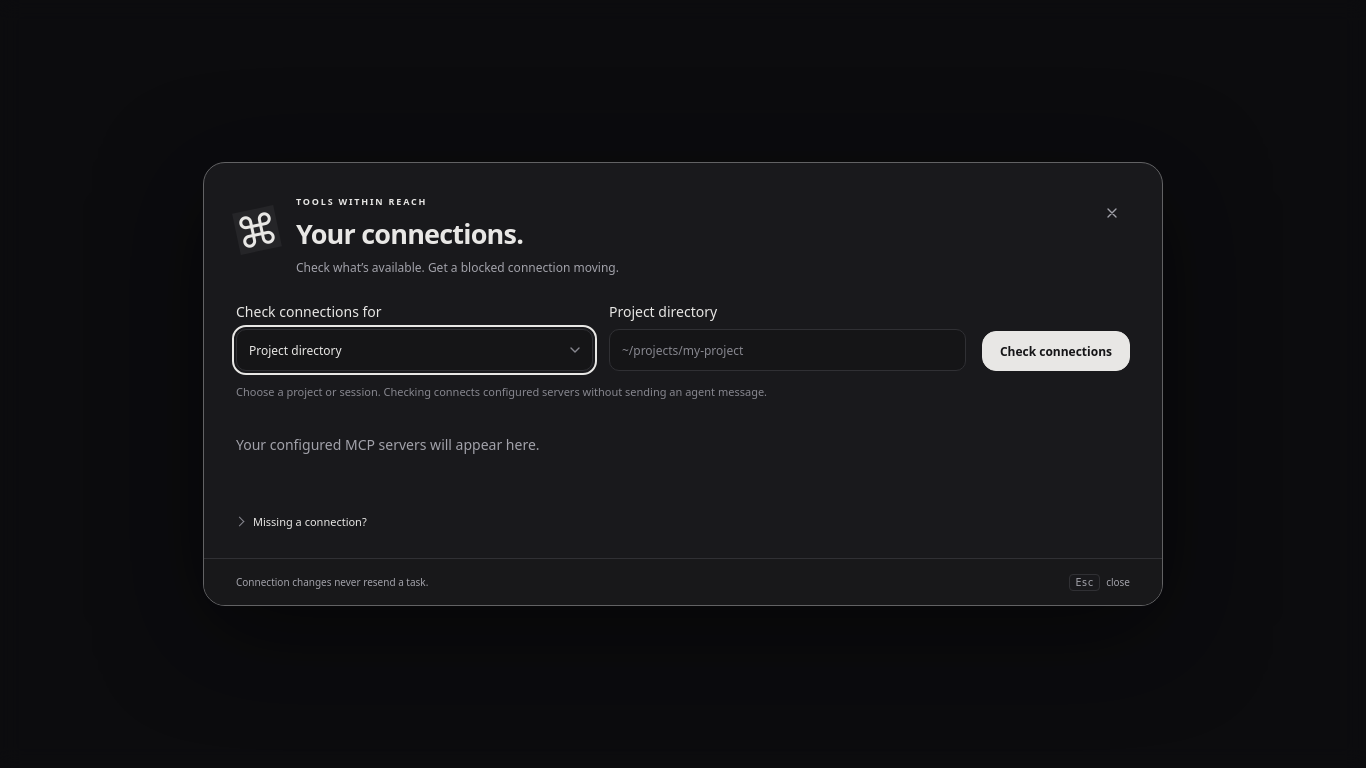
Scenario: ConnectionsDialog › checks a project directory when no session is chosen, and filters and searches the list
This screenshot has width=1366, height=768.
Expected: the text "Your configured MCP servers will appear here." is shown, left=236, top=435, right=540, bottom=454
Type "/fixture/repos/web-app" into the field labelled "Project directory" at (787, 350), box left=609, top=330, right=966, bottom=372
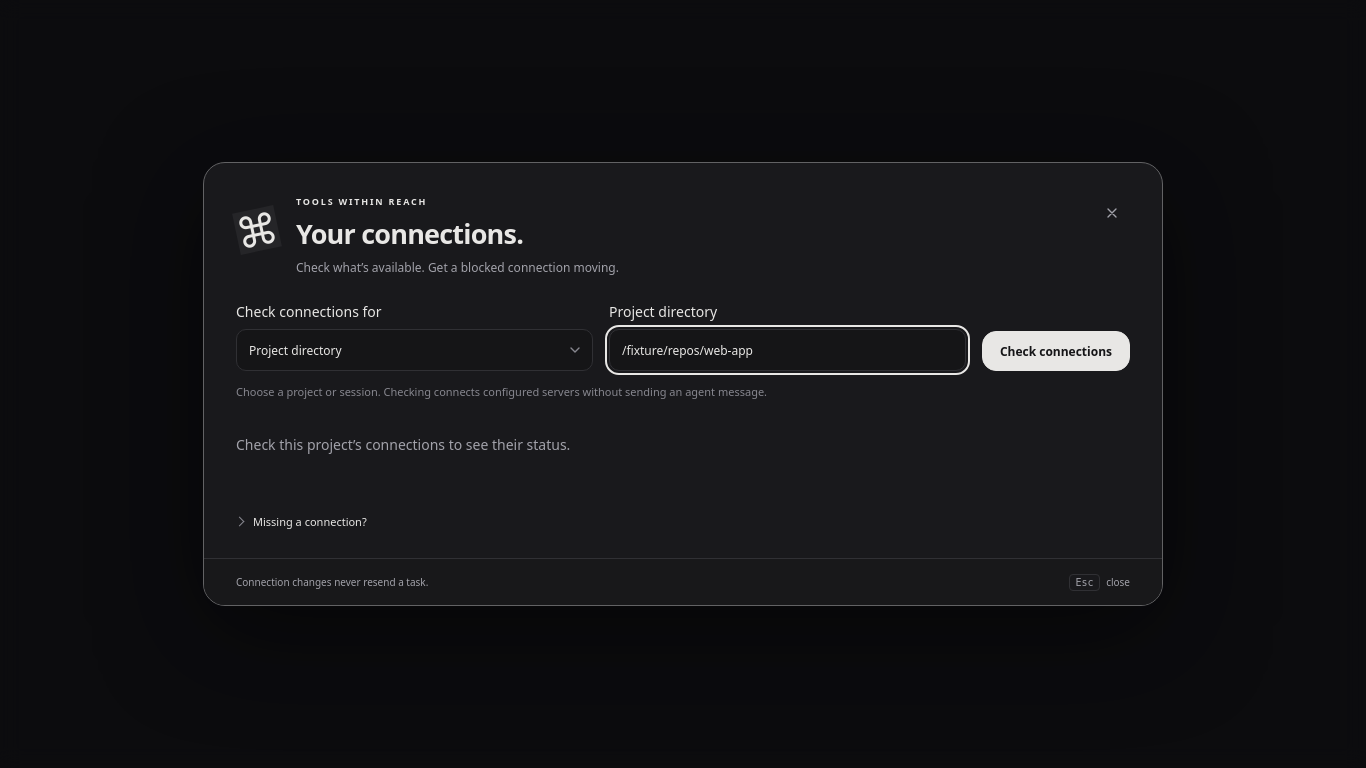
Click the button "Check connections" at (1056, 352), box left=982, top=332, right=1130, bottom=372
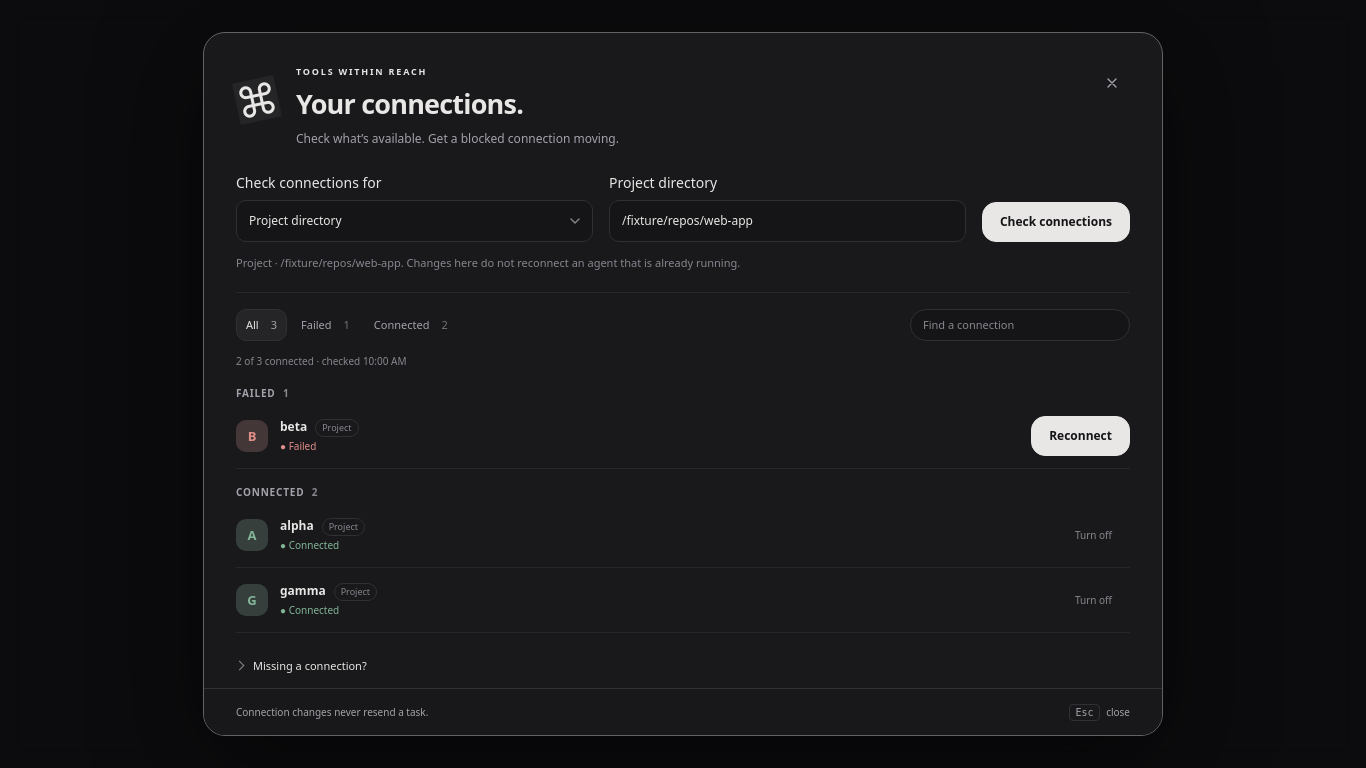
Expected: the text "alpha" is shown, left=280, top=517, right=314, bottom=534
Expected: the text "Project · /fixture/repos/web-app. Changes here do not reconnect" is shown, left=236, top=255, right=740, bottom=270
Click the button "Failed 1" at (325, 324), box left=291, top=308, right=360, bottom=340
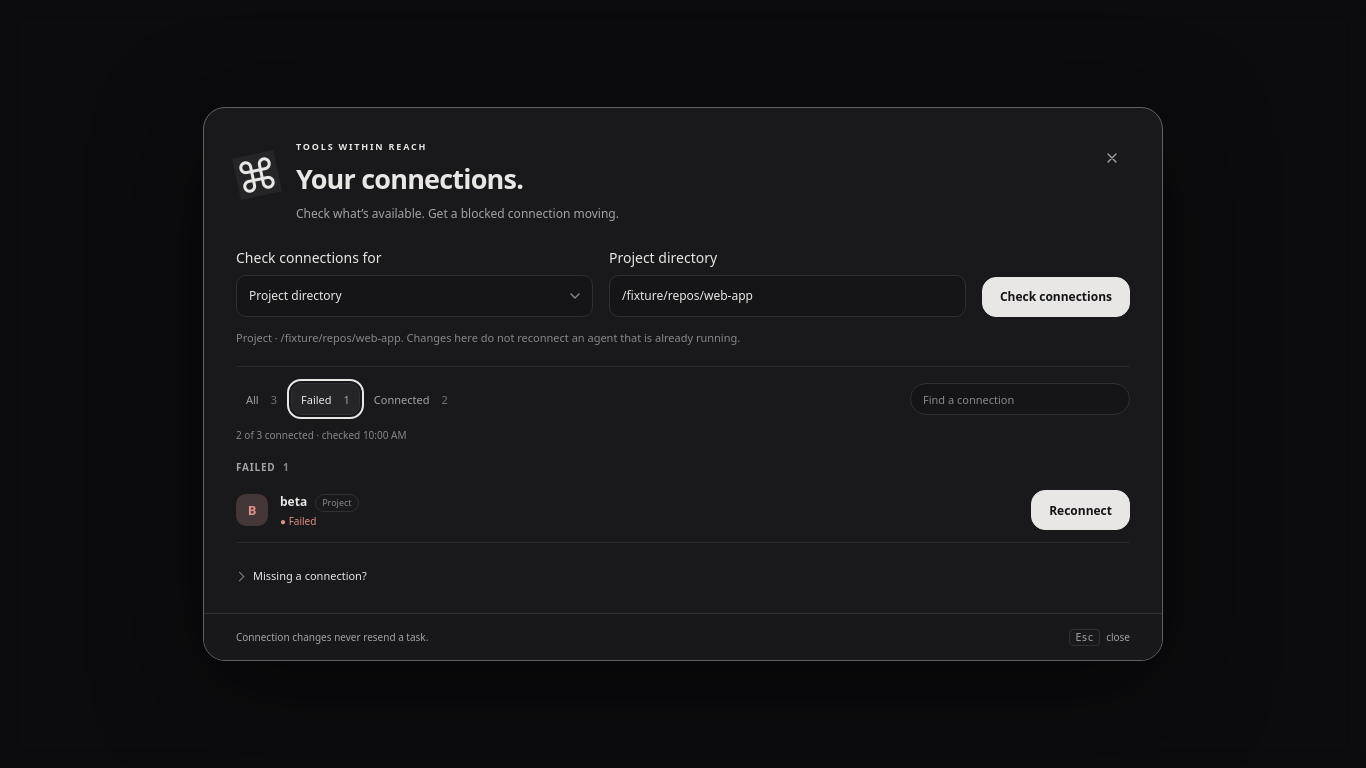
Expected: the text "beta" is shown, left=280, top=493, right=307, bottom=510
Expected: the text "alpha" is gone
Click the button "All 3" at (262, 400), box left=236, top=384, right=287, bottom=416
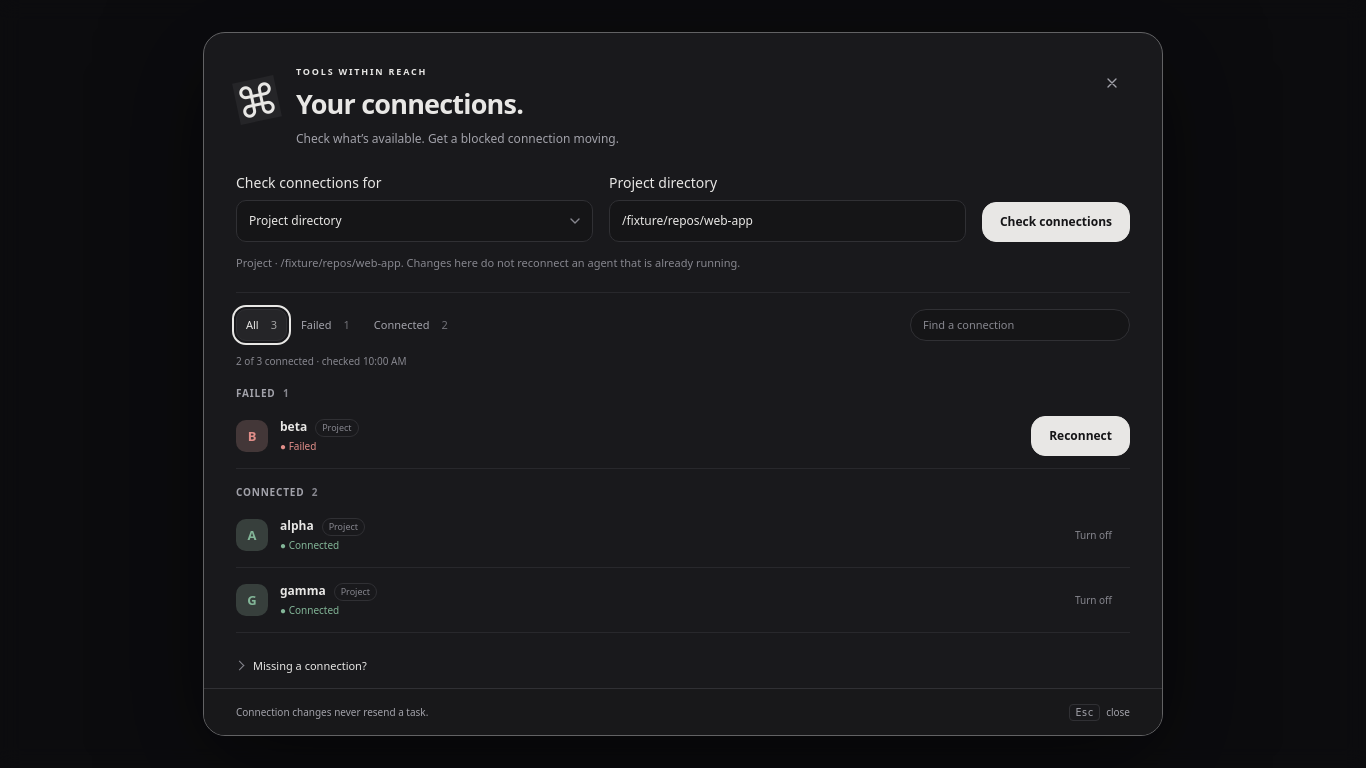
Type "gam" into the search field labelled "Find a connection" at (1020, 324), box left=910, top=308, right=1130, bottom=340
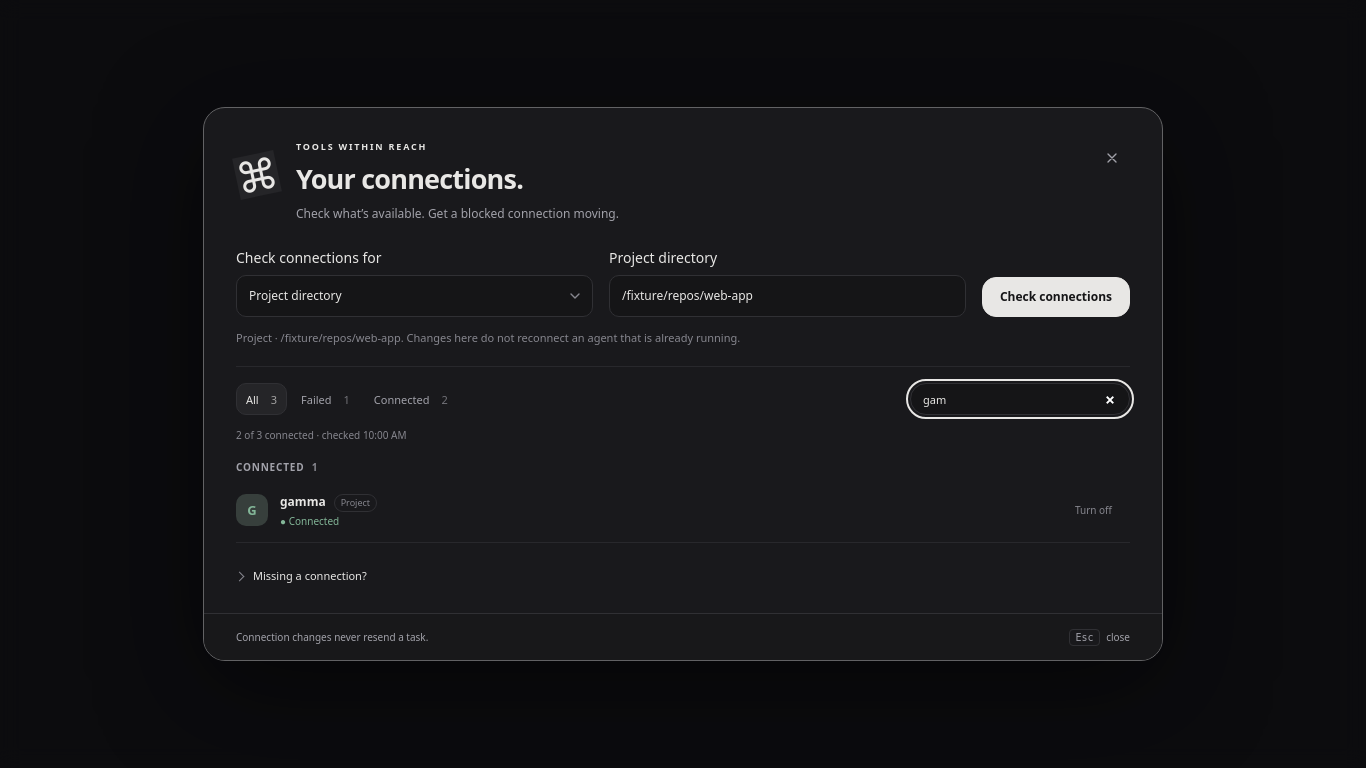
Expected: the text "gamma" is shown, left=280, top=493, right=326, bottom=510
Expected: the text "alpha" is gone
